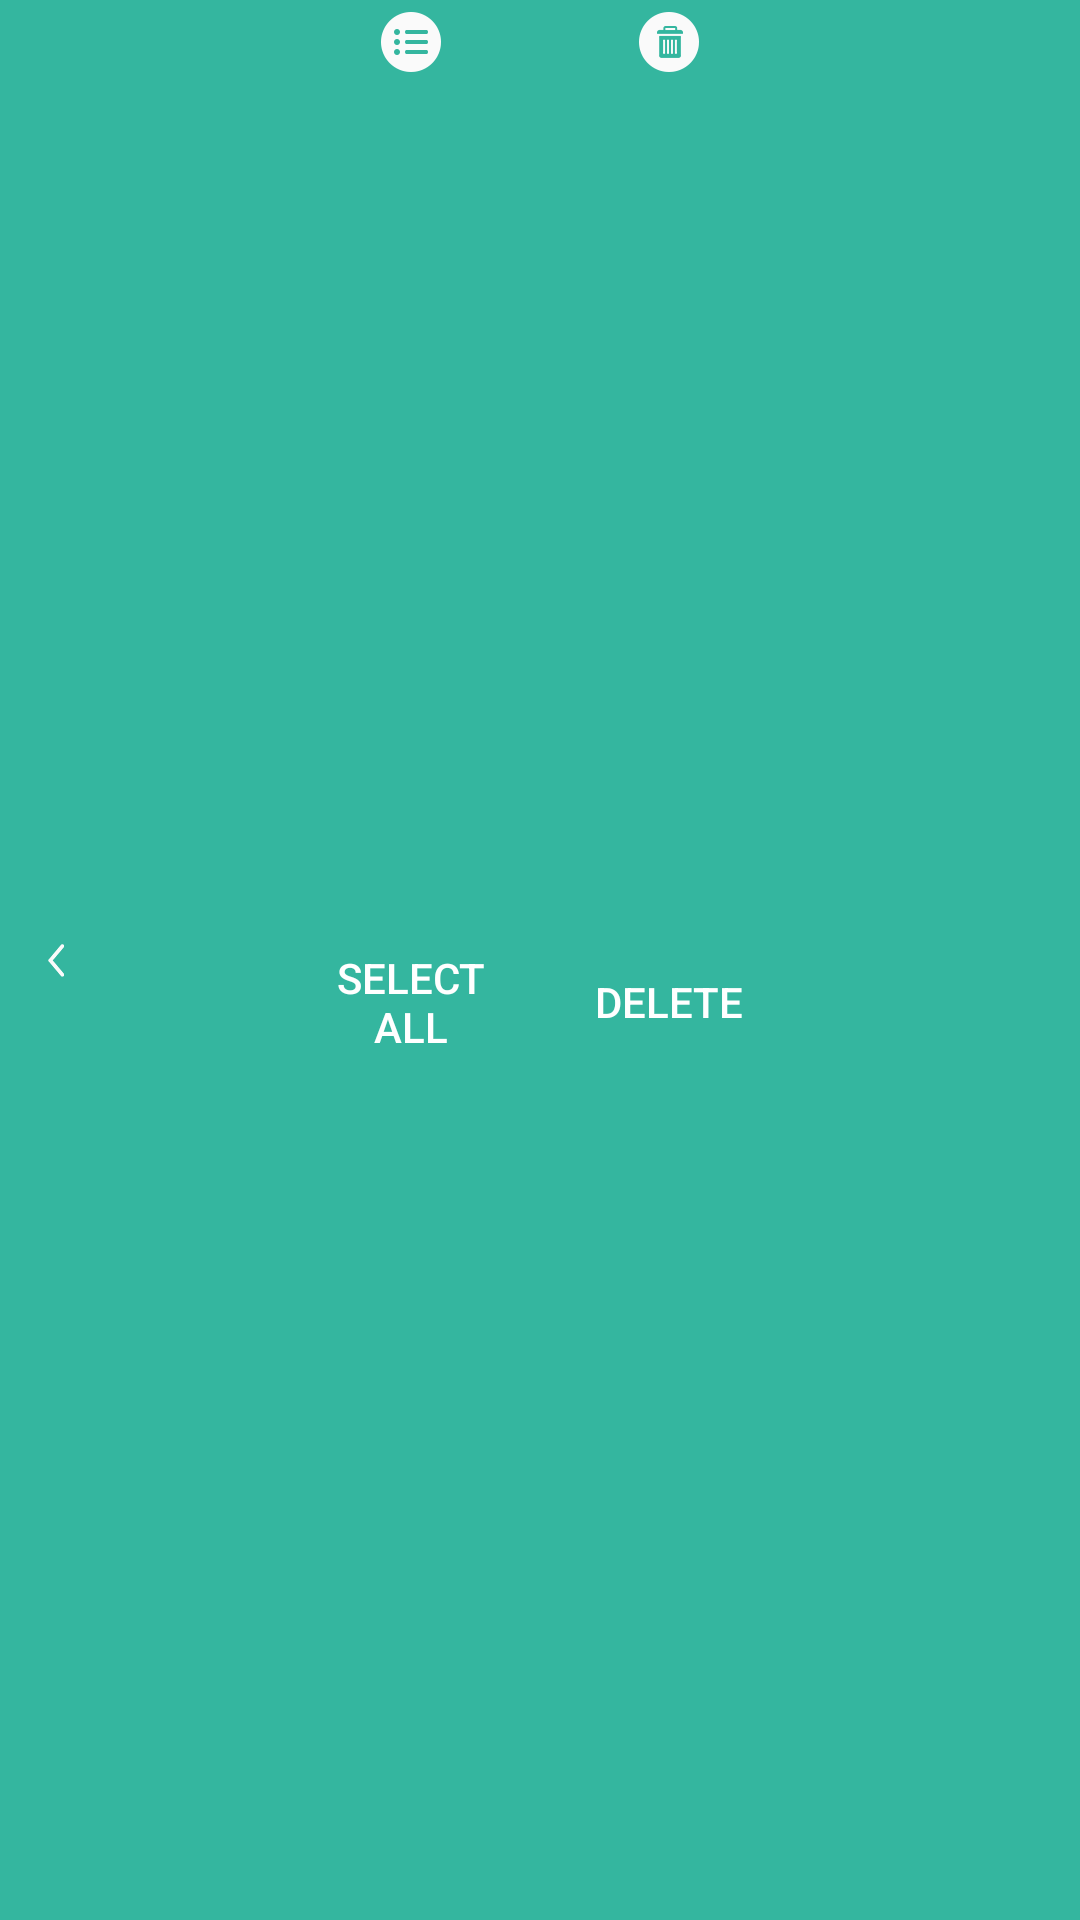

Icon bounding boxes for this 1080px×1920px phone screenshot, format (x1, y1, x2, y2):
back: (48, 944, 64, 977)
